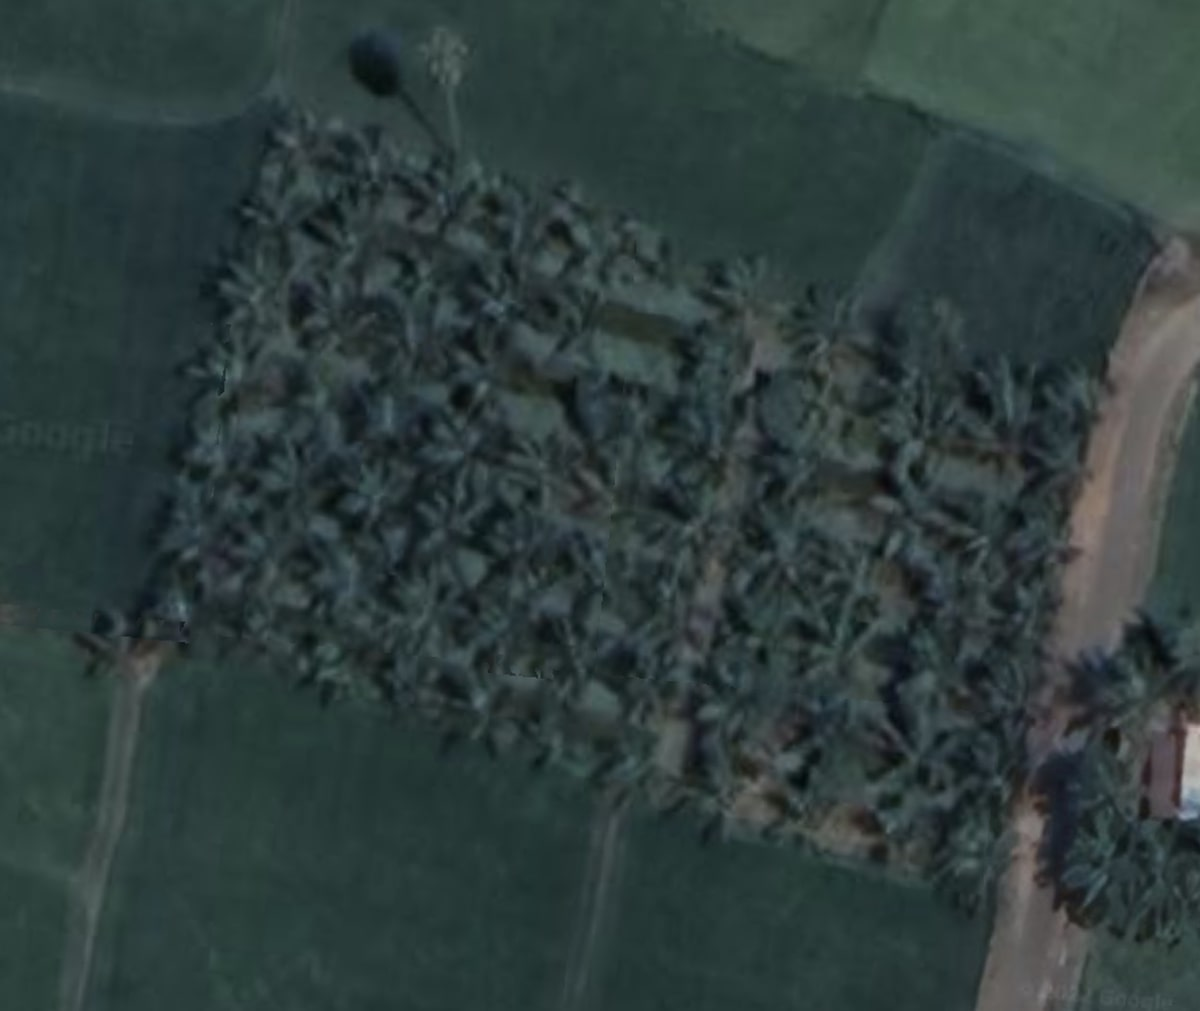coconut: (483, 424, 604, 532), (736, 497, 844, 608), (800, 601, 894, 712), (363, 552, 474, 646), (633, 481, 733, 582), (871, 694, 968, 794), (886, 370, 974, 478), (536, 583, 625, 687), (613, 602, 704, 696), (1055, 824, 1143, 915), (217, 521, 301, 610), (201, 254, 295, 333), (183, 331, 278, 408), (221, 168, 308, 252), (786, 282, 864, 371), (285, 274, 371, 352), (940, 816, 1014, 908), (254, 104, 344, 178), (178, 425, 259, 505), (468, 260, 537, 348), (544, 283, 612, 371), (252, 437, 327, 514), (332, 127, 401, 209), (420, 469, 498, 540), (336, 458, 417, 525), (1044, 360, 1116, 432), (155, 504, 224, 581), (709, 250, 778, 318), (294, 204, 362, 268)
